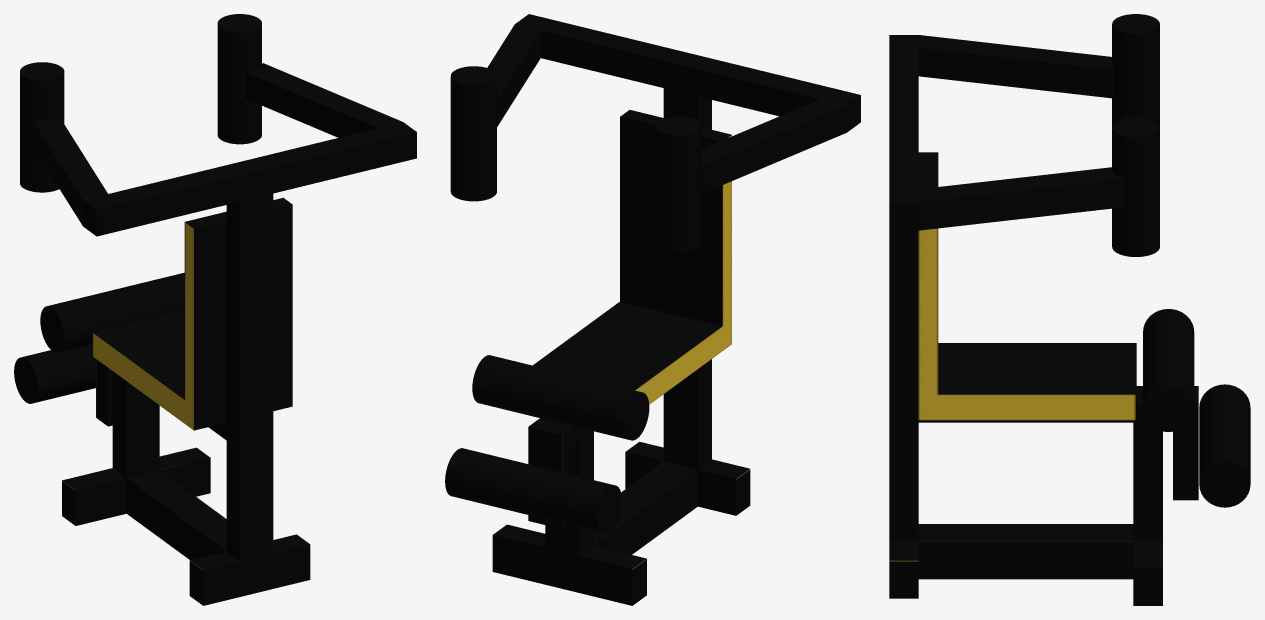
The model's file is batafly.fbx.
The picture shows the model from 3 angles, left to right: view 1: azimuth 30°, elevation 25°; view 2: azimuth 150°, elevation 25°; view 3: azimuth 270°, elevation 25°; orthographic projection. The views are drawn at different scales.
Visible parts, largest first — view 1: 立方体; view 2: 立方体; view 3: 立方体.
Boxes of the visible parts, x1=… form: 立方体: x1=14, y1=14, x2=416, y2=605; 立方体: x1=445, y1=14, x2=860, y2=605; 立方体: x1=889, y1=14, x2=1250, y2=605.
Size of the model in its own units: 902 by 1243 by 822.
